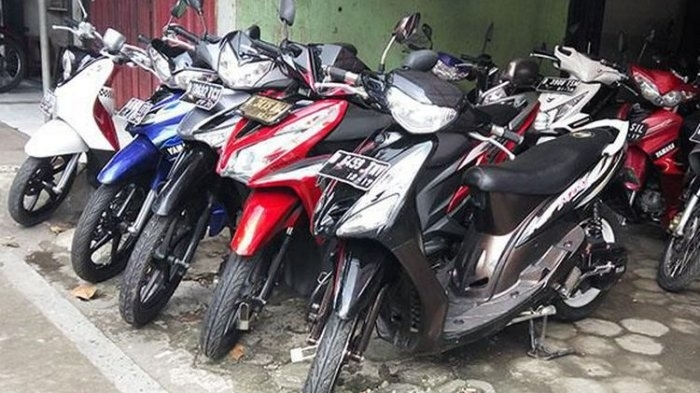plate: (318, 148, 389, 190), (238, 93, 291, 127), (180, 80, 222, 108)
